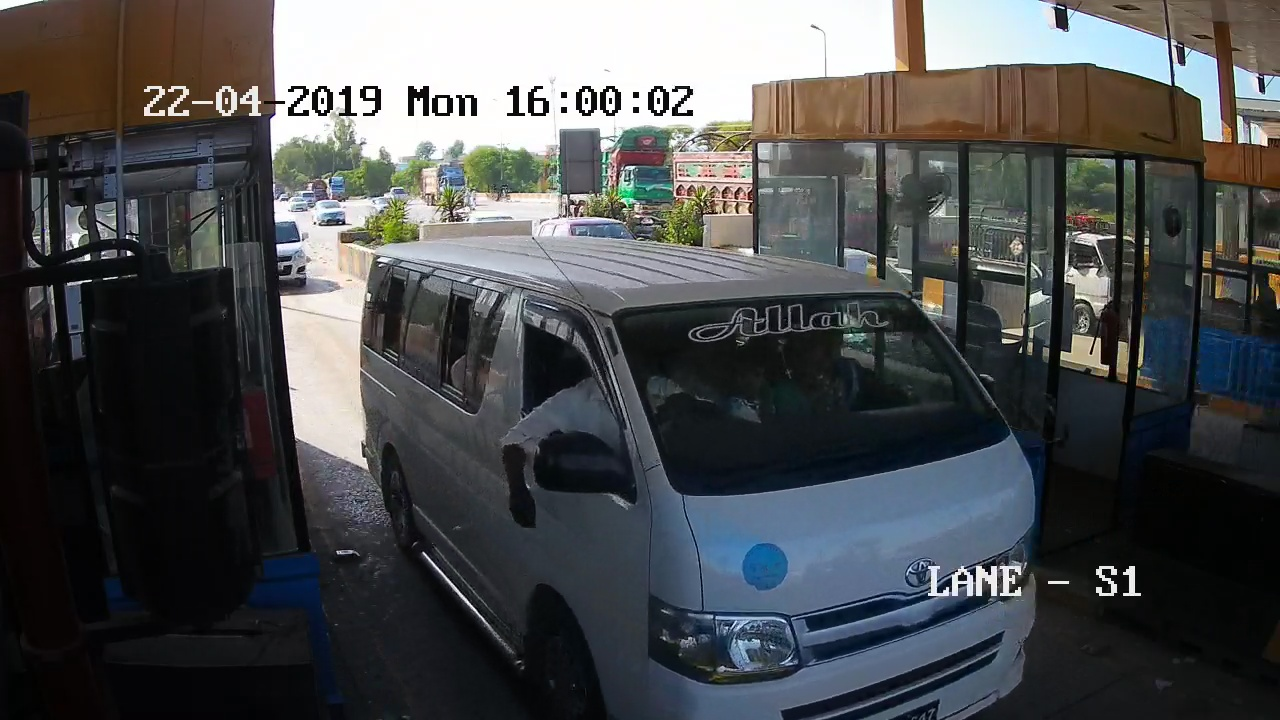car: (362, 235, 1044, 720)
